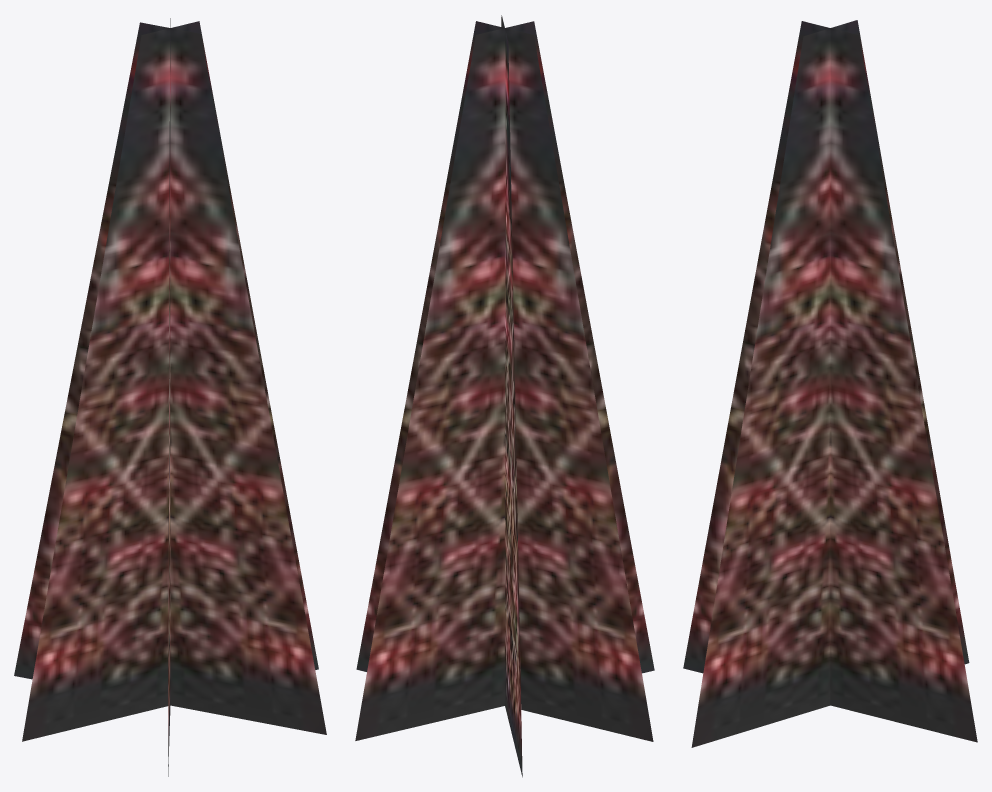
The model's file is christmanstree1.glb.
3 views of the same model, side by side, from view 1: azimuth 30°, elevation 25°; view 2: azimuth 150°, elevation 25°; view 3: azimuth 270°, elevation 25° (orthographic).
Visible parts, largest first — view 1: Screenshot 2025-09-27 163441.002; view 2: Screenshot 2025-09-27 163441.002; view 3: Screenshot 2025-09-27 163441.002.
Boxes of the visible parts, x1,y1,x2,y2 form: Screenshot 2025-09-27 163441.002: (14,18,326,776); Screenshot 2025-09-27 163441.002: (355,15,654,777); Screenshot 2025-09-27 163441.002: (683,20,977,747).
Bounding box in the file's own units: 0.4587 × 1 × 0.3941.
1 material, 1 textured.
